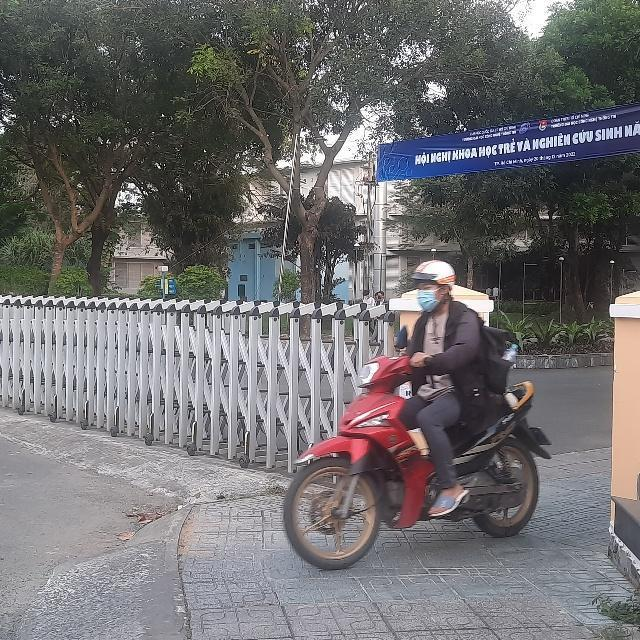Helmet: (414, 258, 454, 310)
